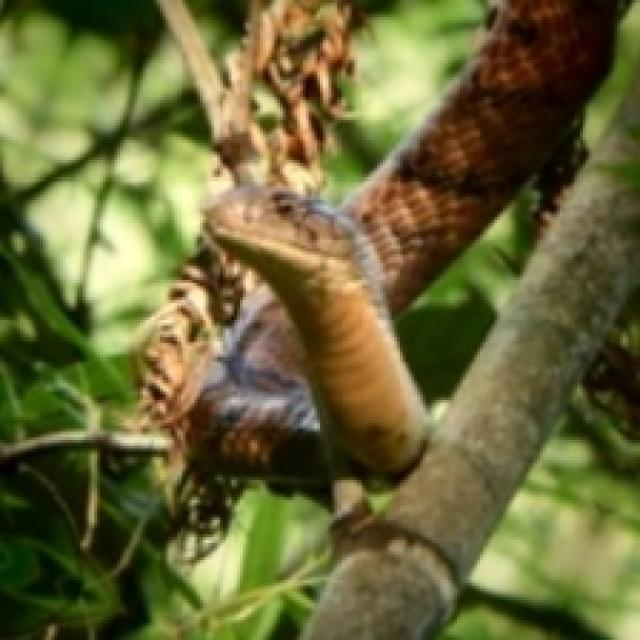king cobra: (180, 0, 637, 580)
